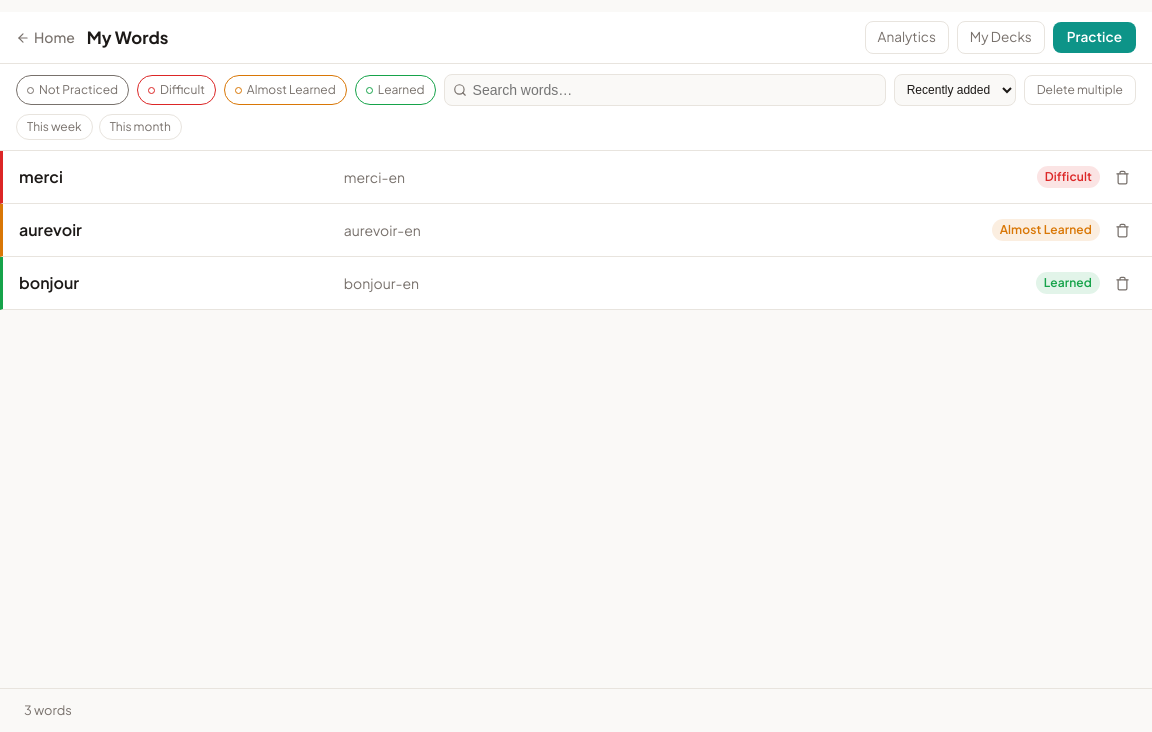
Test: Flashcards — single delete › dismisses the error banner
Expected: the text "bonjour" is shown, [19, 272, 79, 293]
Click the button named "delete bonjour". click: (1122, 283)
box: [1108, 269, 1136, 297]
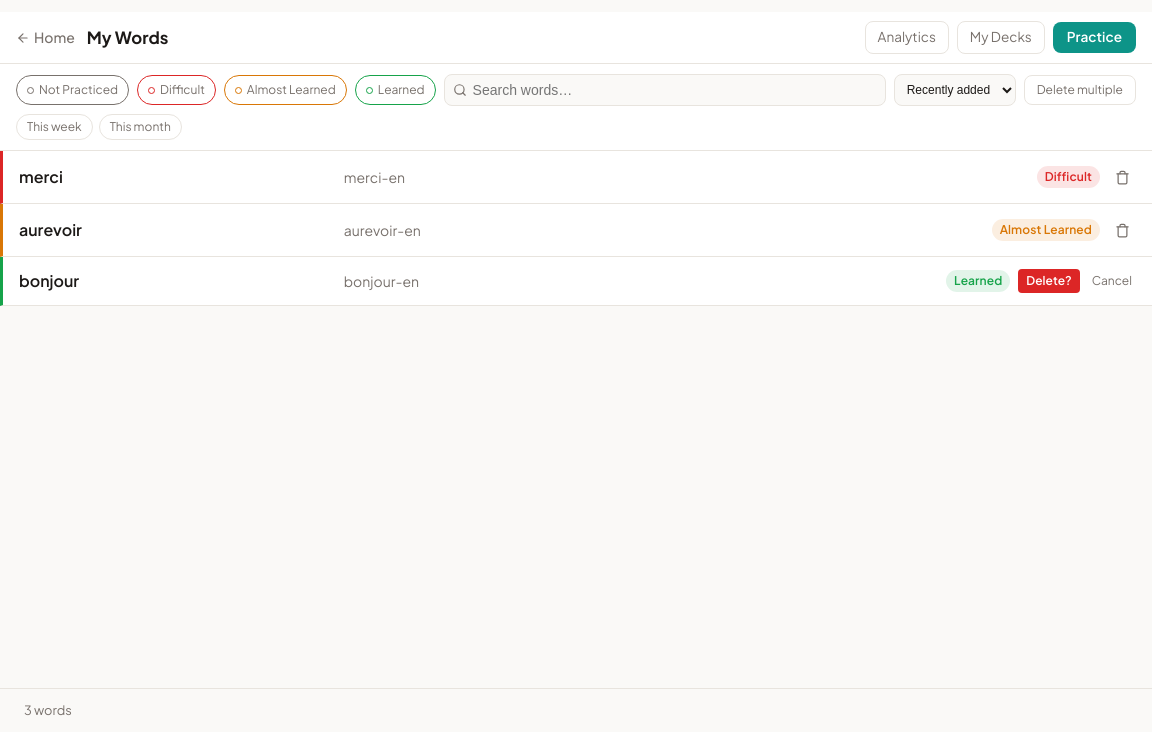
Click the button "Delete?". click: (1049, 281)
box: [1018, 269, 1080, 293]
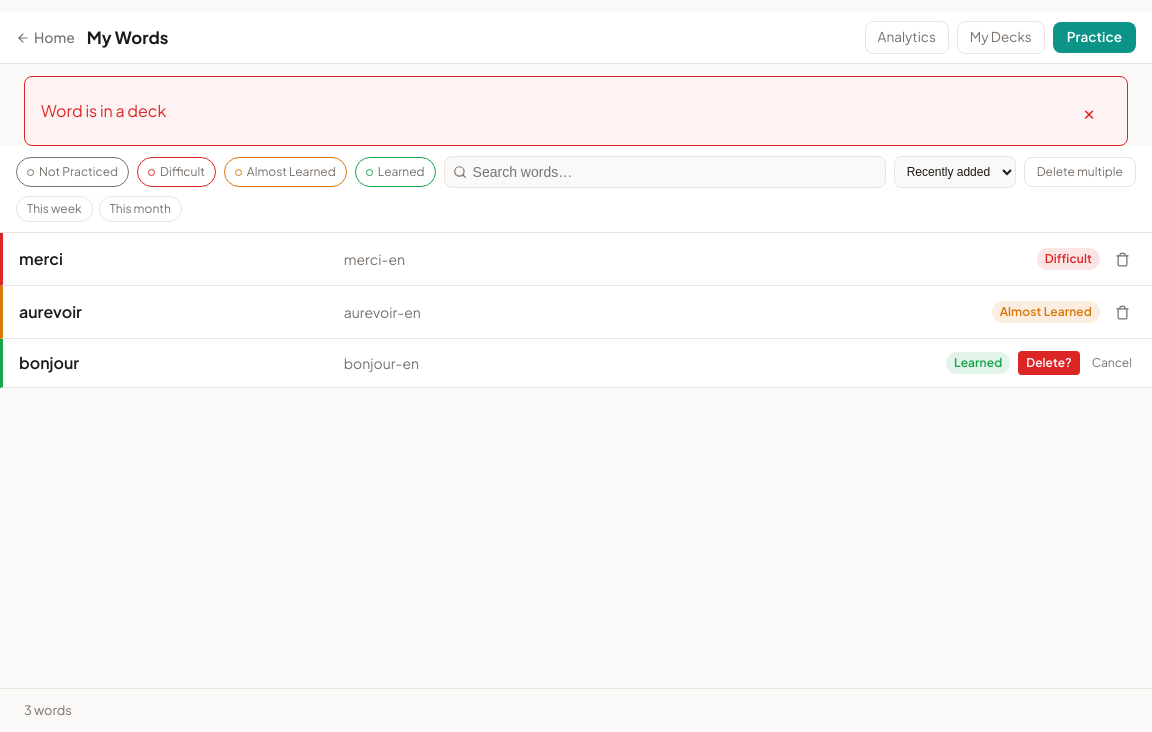
Now the text "Word is in a deck" is shown, box [41, 99, 166, 123]
Click the button named "dismiss". click: (1089, 111)
box: [1067, 89, 1111, 133]
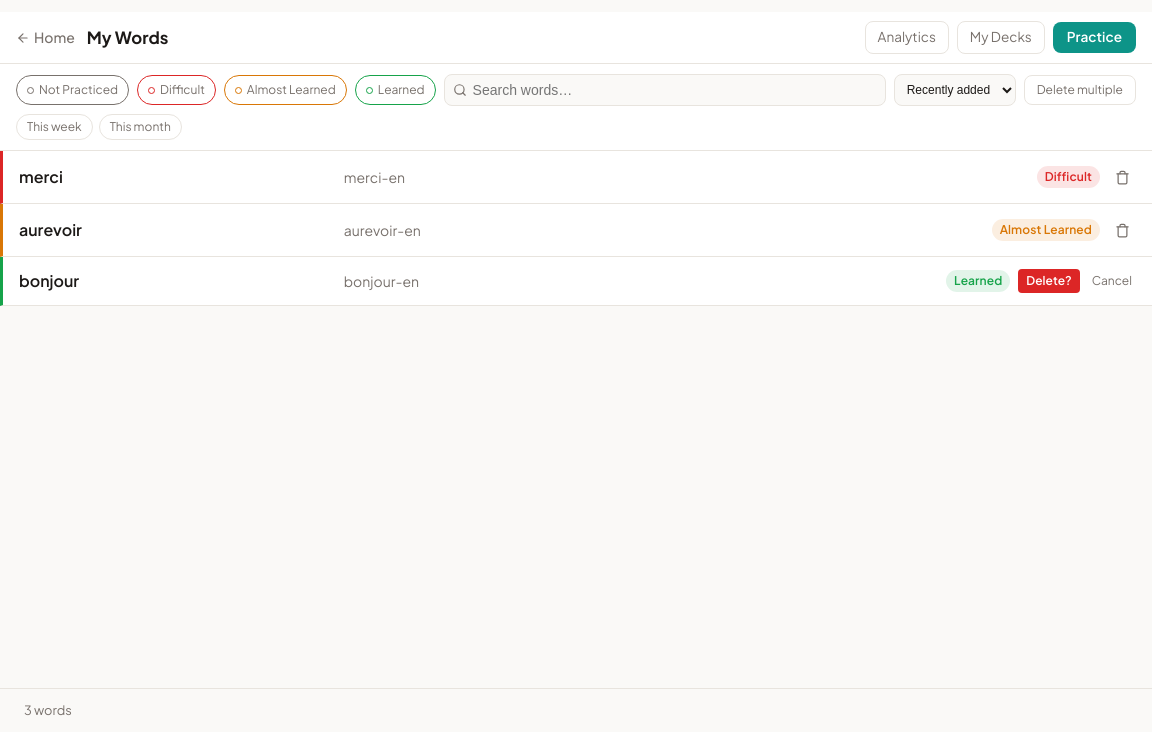
Now the text "Word is in a deck" is gone
